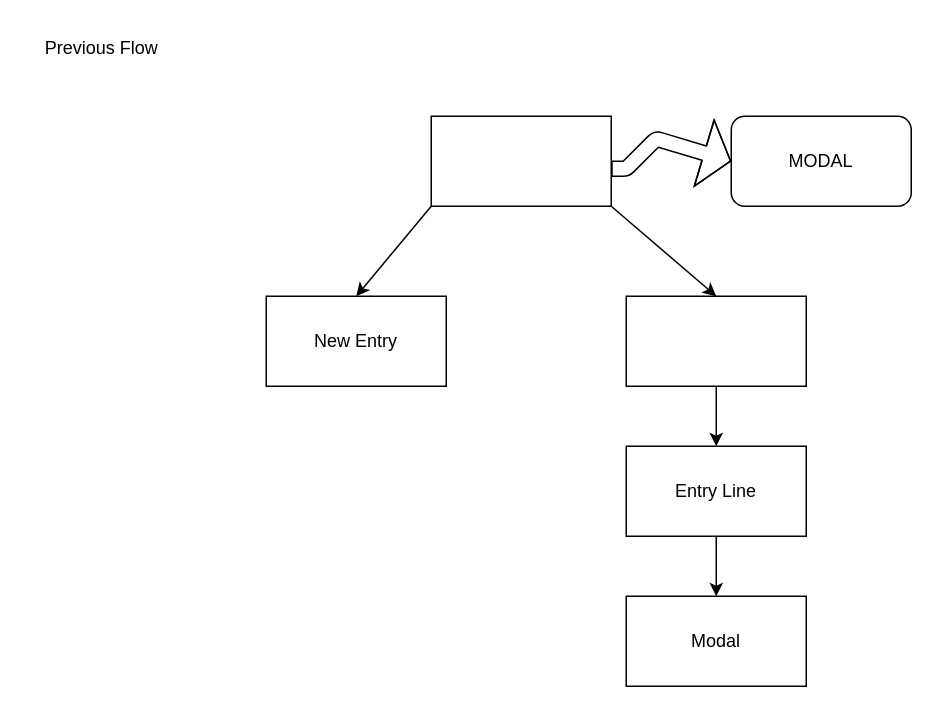
This 938x713 diagram has some shape labels left out. Each missing label, with the centre of its shape:
"App" goes at pixel 520 160.
"Entry Lines" goes at pixel 715 340.
